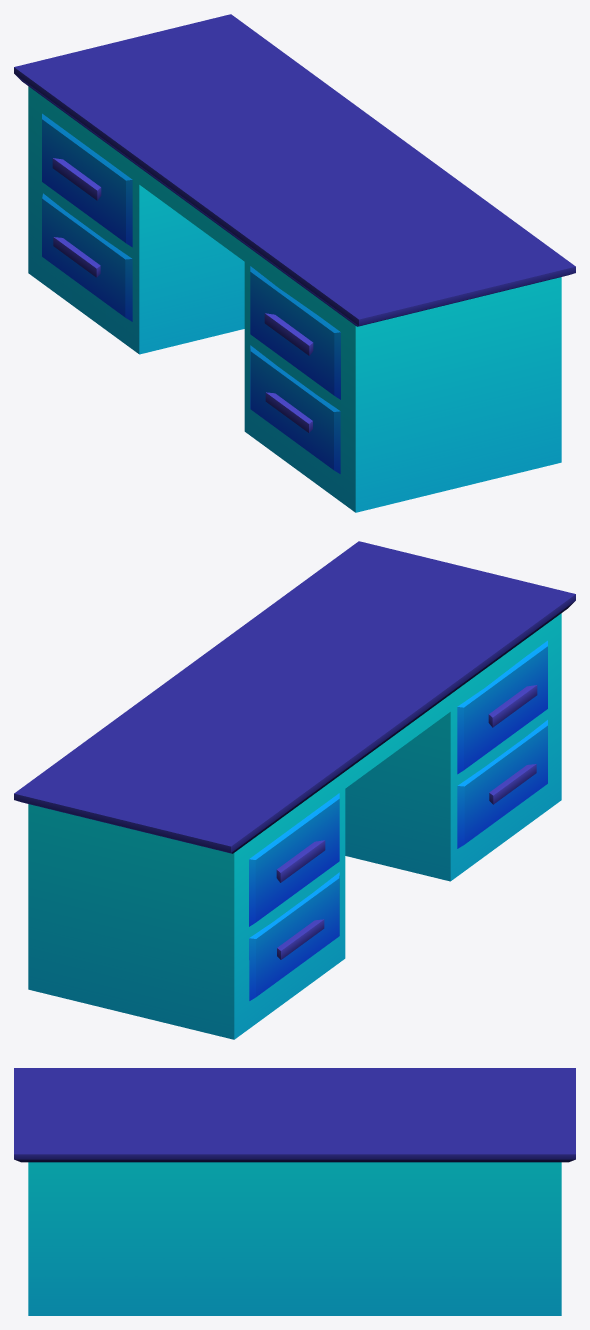
Rendered from SM_Escritorio.fbx.
The picture shows the model from 3 angles, top to bottom: view 1: azimuth 30°, elevation 25°; view 2: azimuth 150°, elevation 25°; view 3: azimuth 270°, elevation 25°; orthographic projection. The views are drawn at different scales.
Visible parts, largest first — view 1: Escritorio; view 2: Escritorio; view 3: Escritorio.
Boxes of the visible parts, <box> form: Escritorio: <box>14,14,575,512</box>; Escritorio: <box>14,541,575,1039</box>; Escritorio: <box>14,1068,575,1315</box>.
Bounding box in the file's own units: 117 × 101 × 314.
